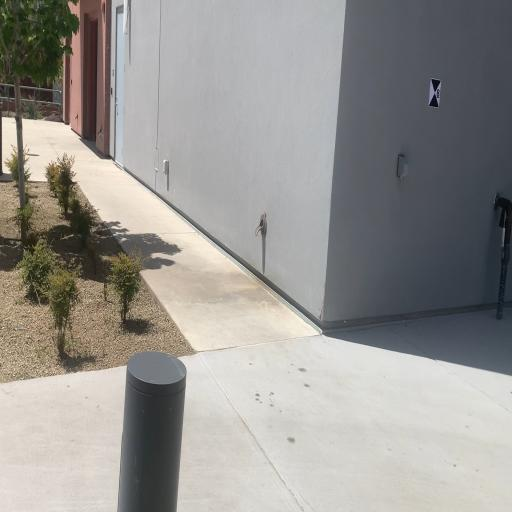target8: (428, 78, 442, 108)
